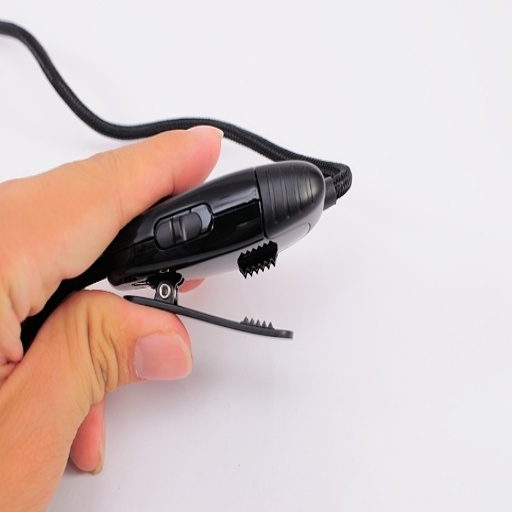hand: (0, 122, 225, 509)
